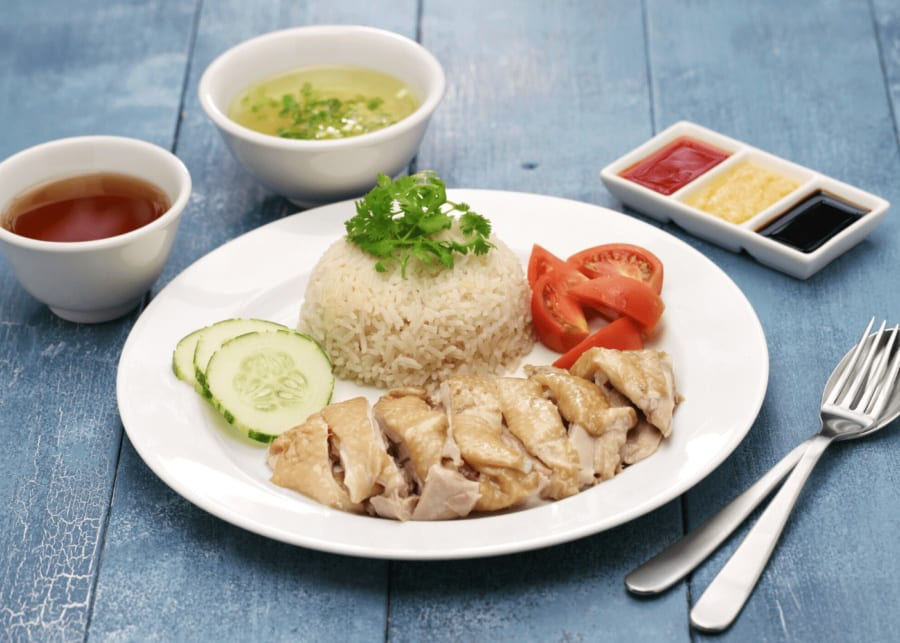Steamed Chicken Rice: (298, 201, 676, 516)
